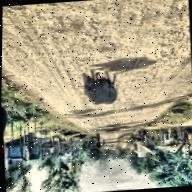boar: (82, 70, 119, 106)
